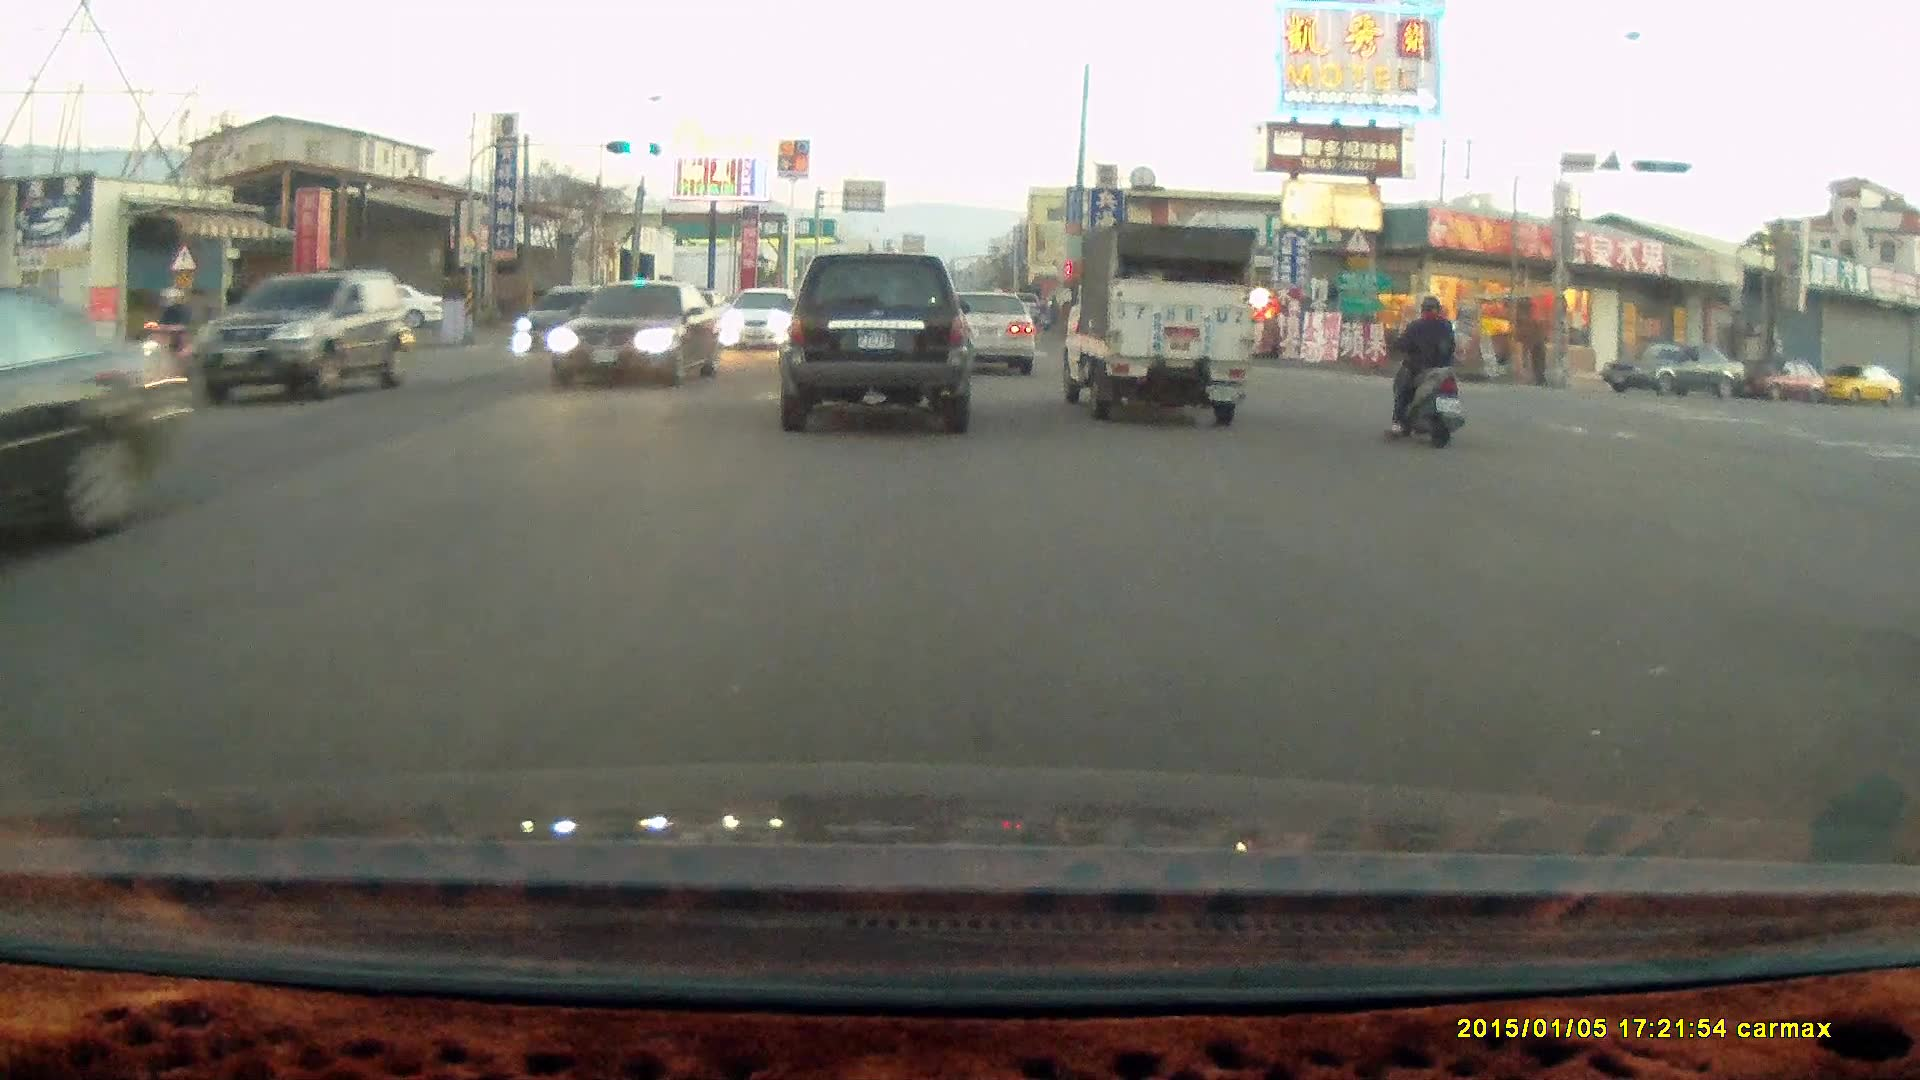rider: (1383, 292, 1463, 446)
vehicle: (1054, 216, 1258, 424), (777, 250, 974, 435), (182, 274, 417, 402), (548, 281, 726, 389), (926, 287, 1035, 378), (1599, 343, 1749, 401), (942, 290, 1039, 378), (517, 279, 617, 353), (332, 285, 447, 334), (719, 290, 799, 356), (1737, 358, 1829, 404), (1813, 364, 1904, 407)
